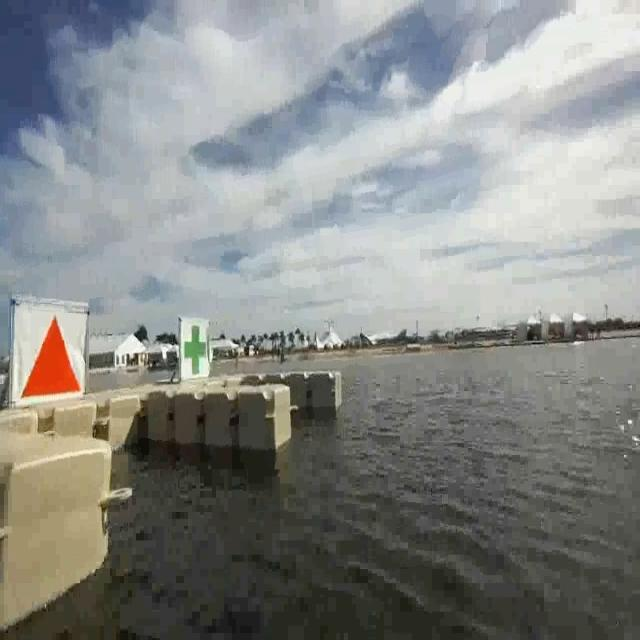blue-cross: (182, 315, 213, 391)
